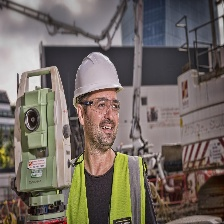helmet: (71, 50, 124, 110)
person: (70, 50, 135, 224)
vest: (69, 150, 144, 224)
